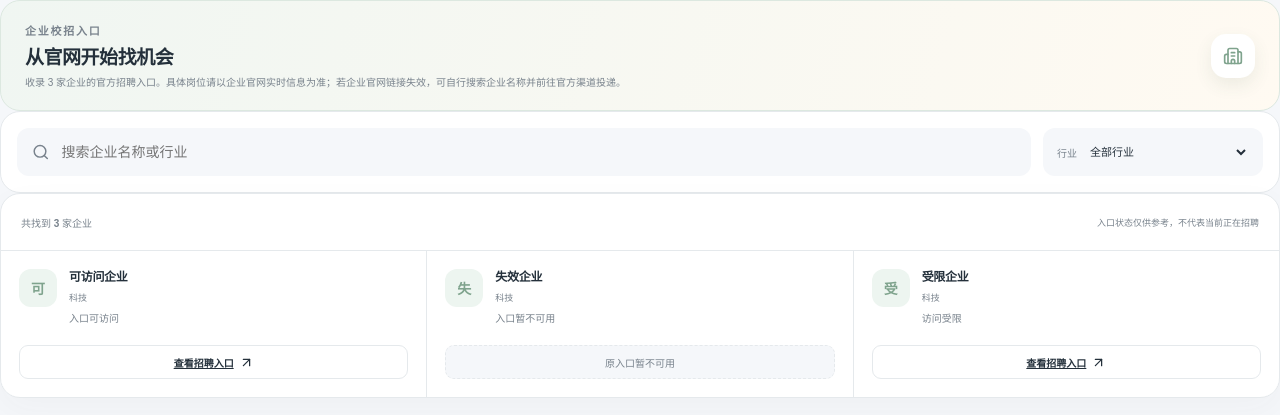
Scenario: career portal reachability › keeps unavailable companies searchable without an active broken link or recruiting claim
Expected: the heading "失效企业" is shown, x1=495 y1=270 x2=542 y2=284
Expected: the text "入口可访问" is shown, x1=69 y1=313 x2=119 y2=324
Type "失效" into the field named "搜索企业或行业" at (538, 152), box x1=60 y1=143 x2=1016 y2=161
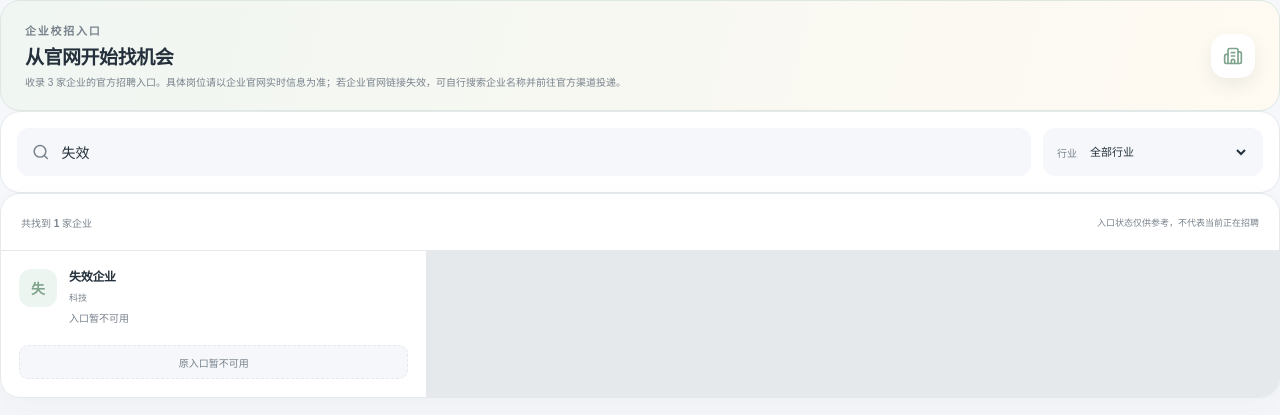
Expected: the heading "失效企业" is shown, x1=69 y1=270 x2=116 y2=284
Expected: the heading "可访问企业" is gone
